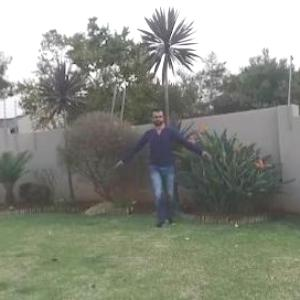land: (109, 102, 215, 236)
